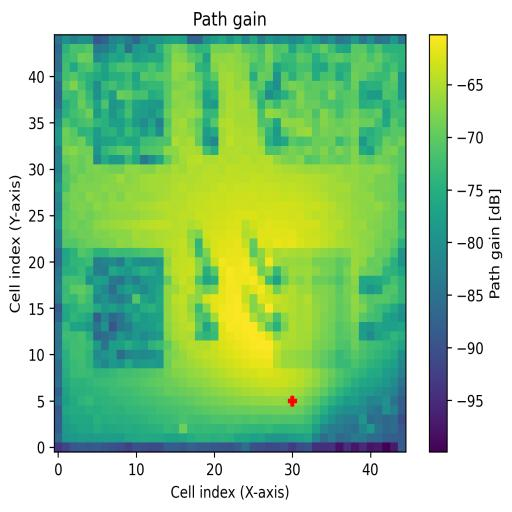Concrete: (274, 52, 350, 164)
Glass: (94, 54, 172, 163)
Metal: (273, 248, 352, 368)
Wood: (92, 249, 164, 368)
